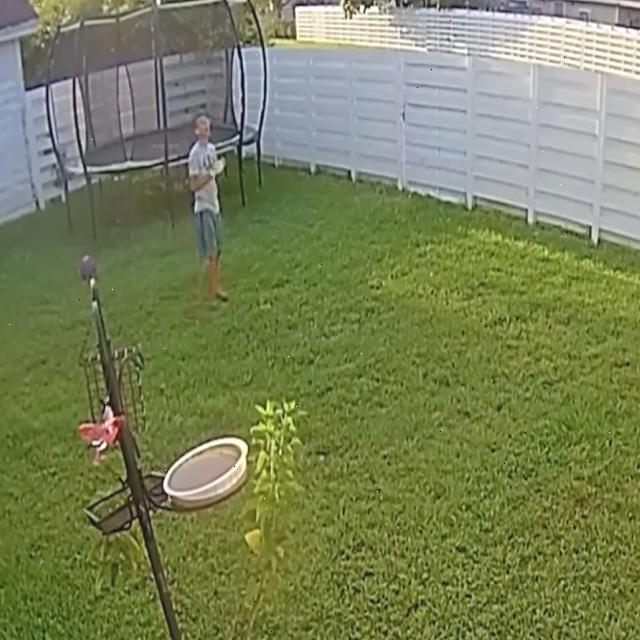standing: (189, 115, 228, 300)
